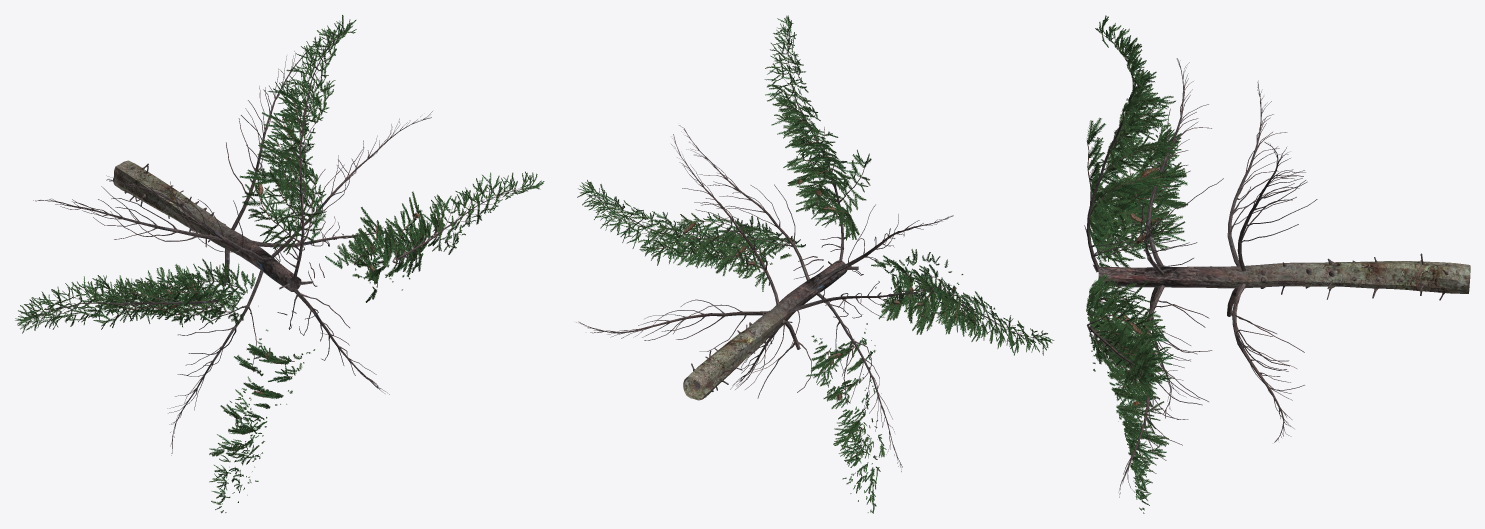
File: picea_abies_2.dae
3 views of the same model, side by side, from view 1: azimuth 30°, elevation 25°; view 2: azimuth 150°, elevation 25°; view 3: azimuth 270°, elevation 25° (orthographic). The views are drawn at different scales.
Parts seen in each view (by area): view 1: node; view 2: node; view 3: node.
Part boxes in pixels (x1,y1,x2,y2): node: (15, 15, 544, 513); node: (576, 15, 1054, 513); node: (1084, 15, 1470, 513).
Size of the model in its own units: 4.19 by 3.8 by 2.39.
Materials: 7 (7 with a texture image).
